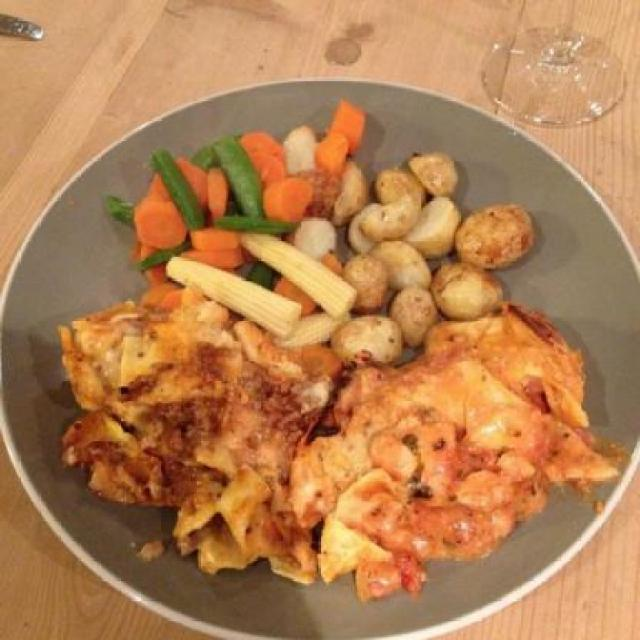Lasagna: (74, 308, 323, 564)
